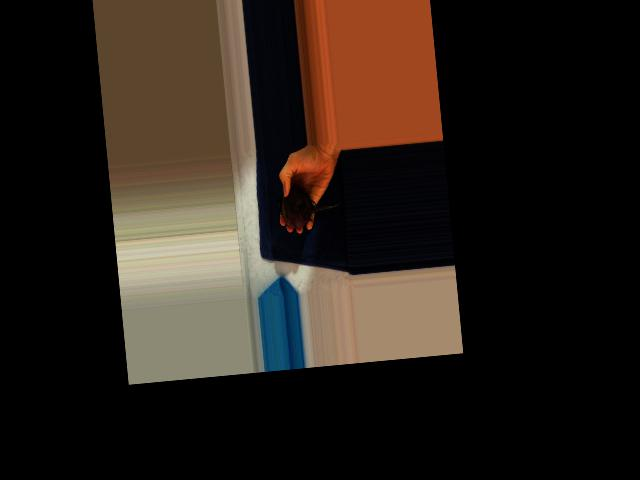beet: (275, 183, 342, 230)
